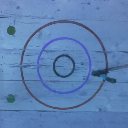Axe Tip: (99, 70, 109, 73)
